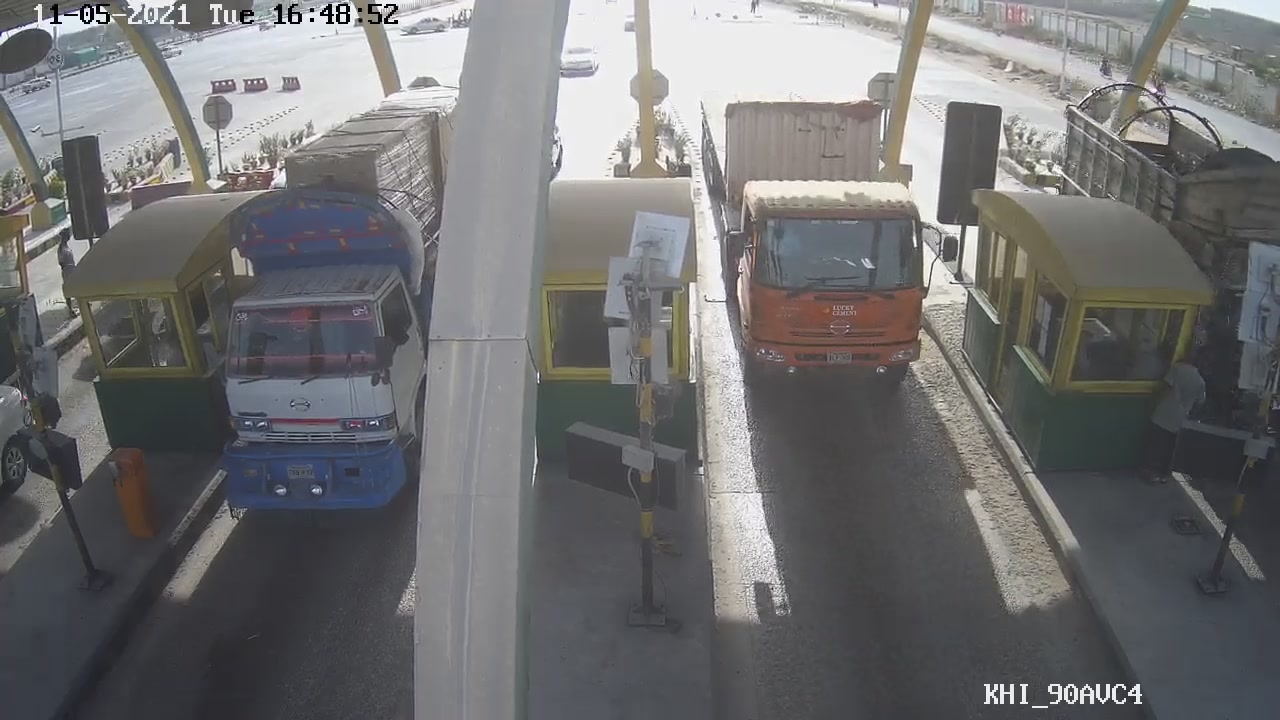F6: (700, 92, 944, 396)
